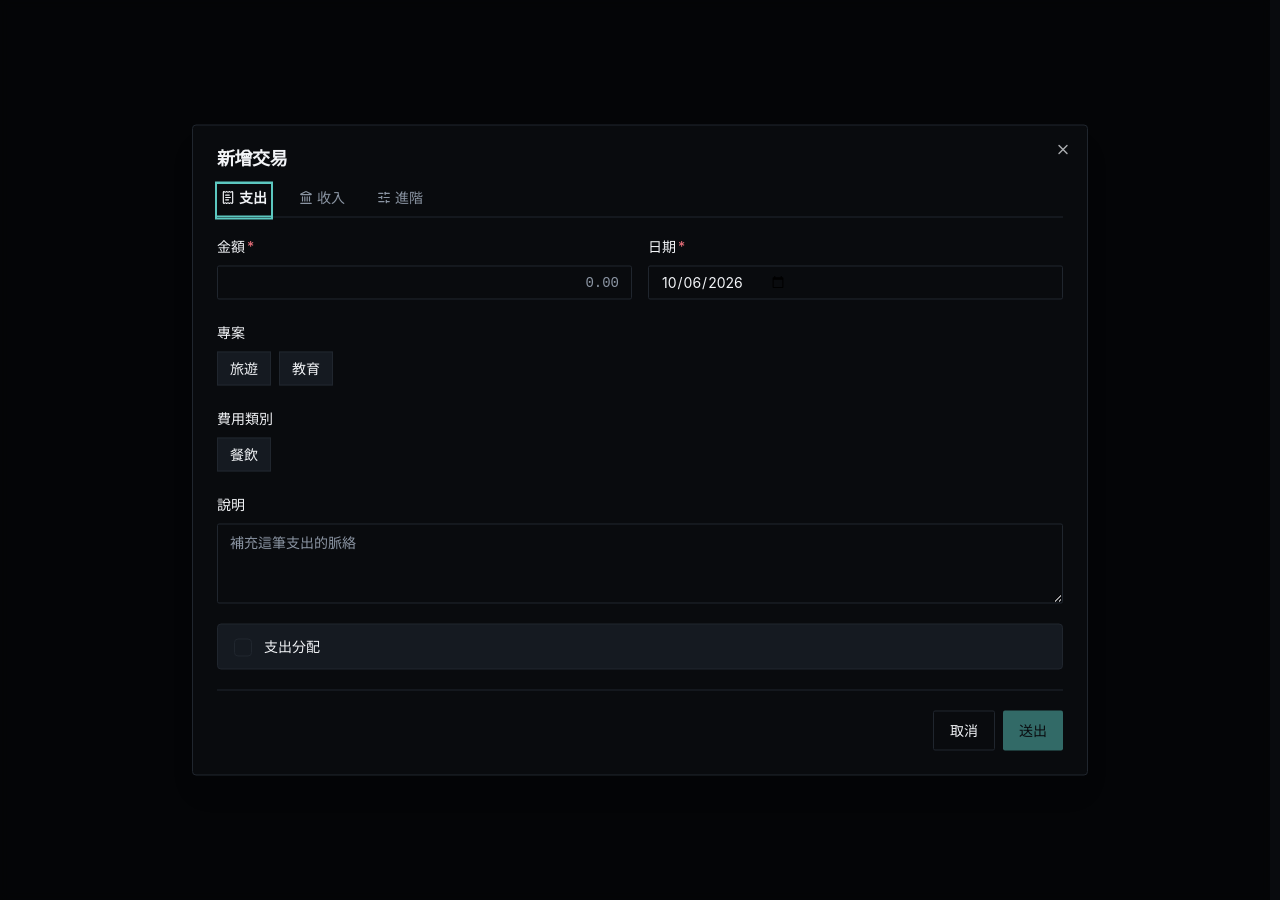
it: TransactionForm › keeps submit disabled until the active tab produces a preview
Expected: the button "送出" is disabled, [1003,710,1063,750]
Type "1200" into the number field labelled "金額*". click: (424, 282)
box: [217,266,632,300]
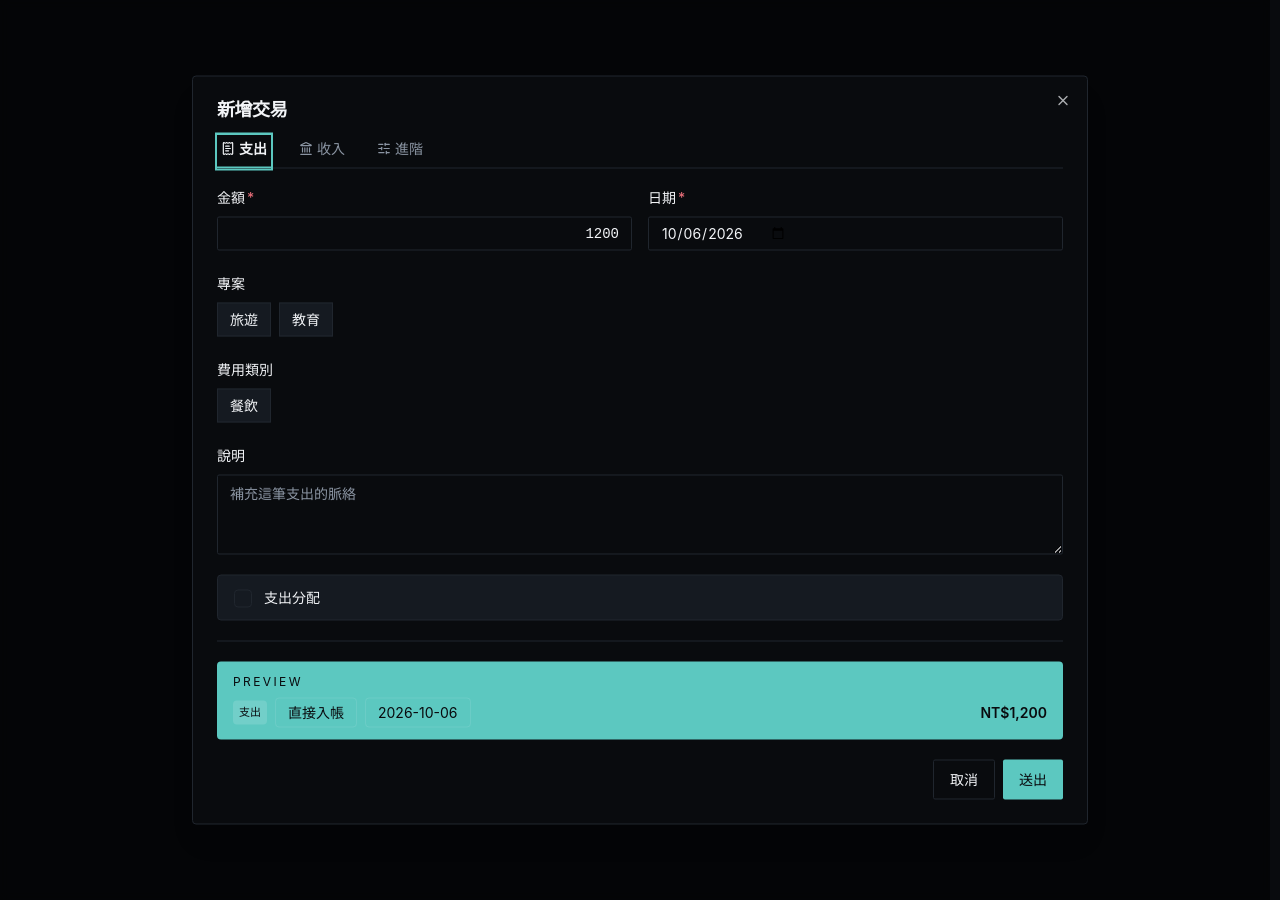
Expected: the button "送出" is enabled, [1003,760,1063,800]
